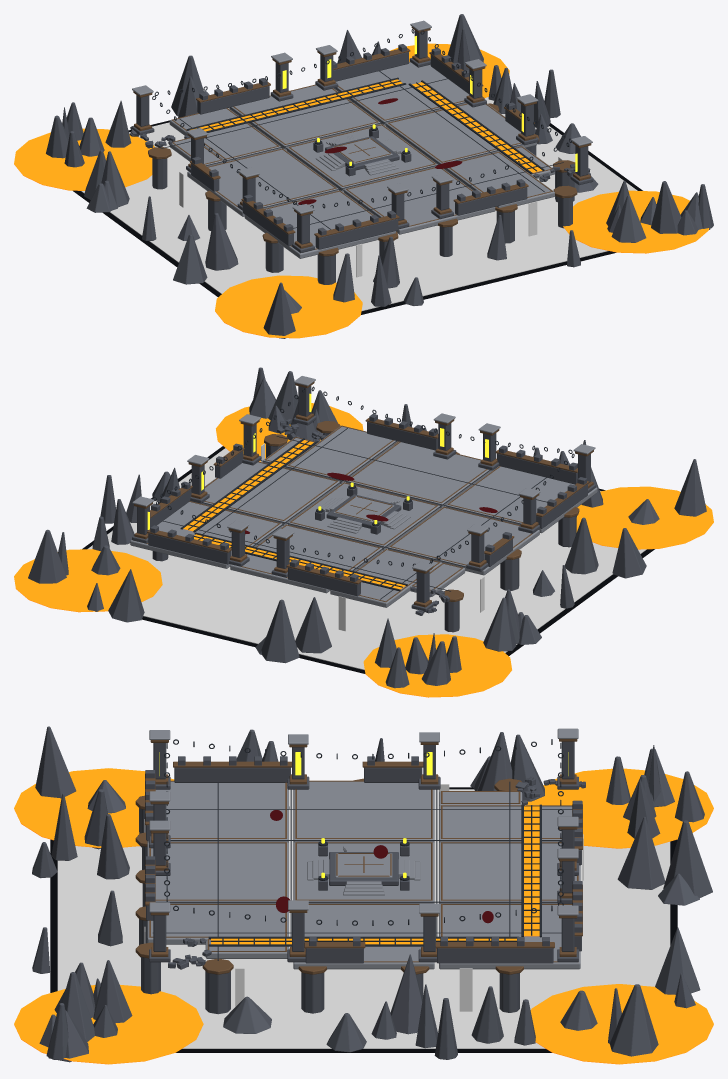
The model's file is AshenCourtyard_Model02.fbx.
3 renders of one model, top to bottom at view 1: azimuth 30°, elevation 25°; view 2: azimuth 150°, elevation 25°; view 3: azimuth 270°, elevation 25°, orthographic. The views are drawn at different scales.
Visible parts, largest first — view 1: DeepLavaSea, AbyssGlow_-35_-35, FloorSlab_-20_0, FloorSlab_0_20, FloorSlab_20_0, AbyssGlow_-35_35, AbyssGlow_35_-35, FloorSlab_20_20, FloorSlab_0_-20, FloorSlab_-20_-20, FloorSlab_0_0, FloorSlab_BrokenNW_A (+32 smaller); view 2: DeepLavaSea, AbyssGlow_-35_-35, FloorSlab_0_-20, AbyssGlow_35_35, AbyssGlow_-35_35, FloorSlab_20_0, FloorSlab_-20_0, FloorSlab_-20_-20, FloorSlab_0_20, FloorSlab_BrokenSE_A, FloorSlab_0_0, FloorSlab_20_20 (+30 smaller); view 3: DeepLavaSea, AbyssGlow_35_35, FloorSlab_-20_0, FloorSlab_0_-20, AbyssGlow_35_-35, FloorSlab_-20_-20, FloorSlab_0_20, AbyssGlow_-35_35, FloorSlab_20_0, AbyssGlow_-35_-35, FloorSlab_20_20, FloorSlab_0_0 (+57 smaller).
Part boxes in pixels (<box>): DeepLavaSea: <box>81,97,637,310</box>; AbyssGlow_-35_-35: <box>215,275,362,338</box>; FloorSlab_-20_0: <box>187,148,338,216</box>; FloorSlab_0_20: <box>229,85,380,150</box>; FloorSlab_20_0: <box>386,104,537,164</box>; AbyssGlow_-35_35: <box>14,128,154,190</box>; AbyssGlow_35_-35: <box>563,190,708,253</box>; FloorSlab_20_20: <box>334,62,469,125</box>; FloorSlab_0_-20: <box>344,168,495,234</box>; FloorSlab_-20_-20: <box>244,190,395,258</box>; FloorSlab_0_0: <box>286,124,437,192</box>; FloorSlab_BrokenNW_A: <box>169,108,281,162</box>; DeepLavaSea: <box>87,448,646,670</box>; AbyssGlow_-35_-35: <box>576,486,713,549</box>; FloorSlab_0_-20: <box>345,441,492,508</box>; AbyssGlow_35_35: <box>14,549,162,612</box>; AbyssGlow_-35_35: <box>363,634,511,697</box>; FloorSlab_20_0: <box>190,462,339,526</box>; FloorSlab_-20_0: <box>388,507,539,575</box>; FloorSlab_-20_-20: <box>445,466,597,533</box>; FloorSlab_0_20: <box>230,525,382,593</box>; FloorSlab_BrokenSE_A: <box>285,425,397,484</box>; FloorSlab_0_0: <box>288,482,439,550</box>; FloorSlab_20_20: <box>130,502,282,568</box>; DeepLavaSea: <box>57,789,670,1048</box>; AbyssGlow_35_35: <box>530,984,713,1064</box>; FloorSlab_-20_0: <box>293,781,434,842</box>; FloorSlab_0_-20: <box>147,842,288,903</box>; AbyssGlow_35_-35: <box>14,985,203,1064</box>; FloorSlab_-20_-20: <box>147,781,288,842</box>; FloorSlab_0_20: <box>439,842,580,903</box>; AbyssGlow_-35_35: <box>526,768,713,848</box>; FloorSlab_20_0: <box>293,905,434,969</box>; AbyssGlow_-35_-35: <box>14,768,174,847</box>; FloorSlab_20_20: <box>439,904,580,969</box>; FloorSlab_0_0: <box>293,842,434,903</box>.
Size of what is drawn, in the model's own units: 9600 by 1776 by 9600.
